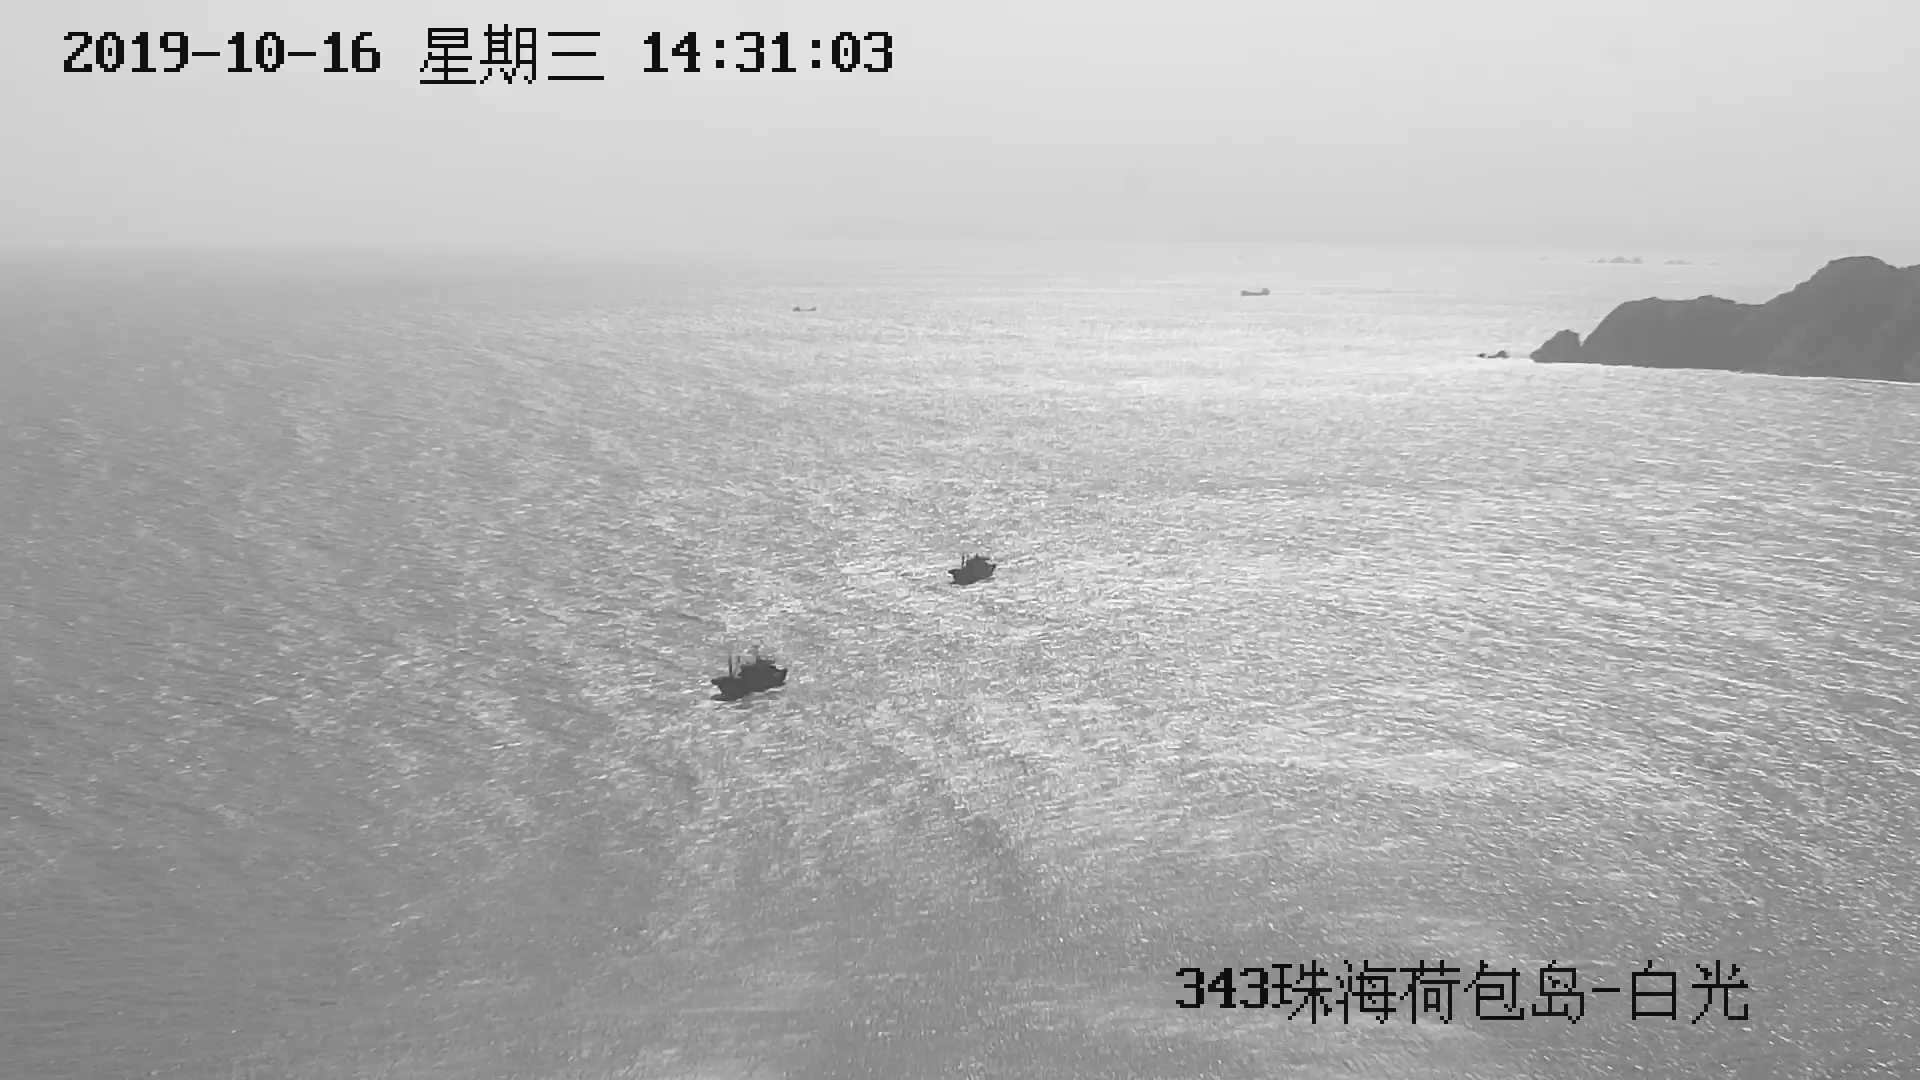ship: (707, 654, 789, 702), (948, 551, 996, 591)
